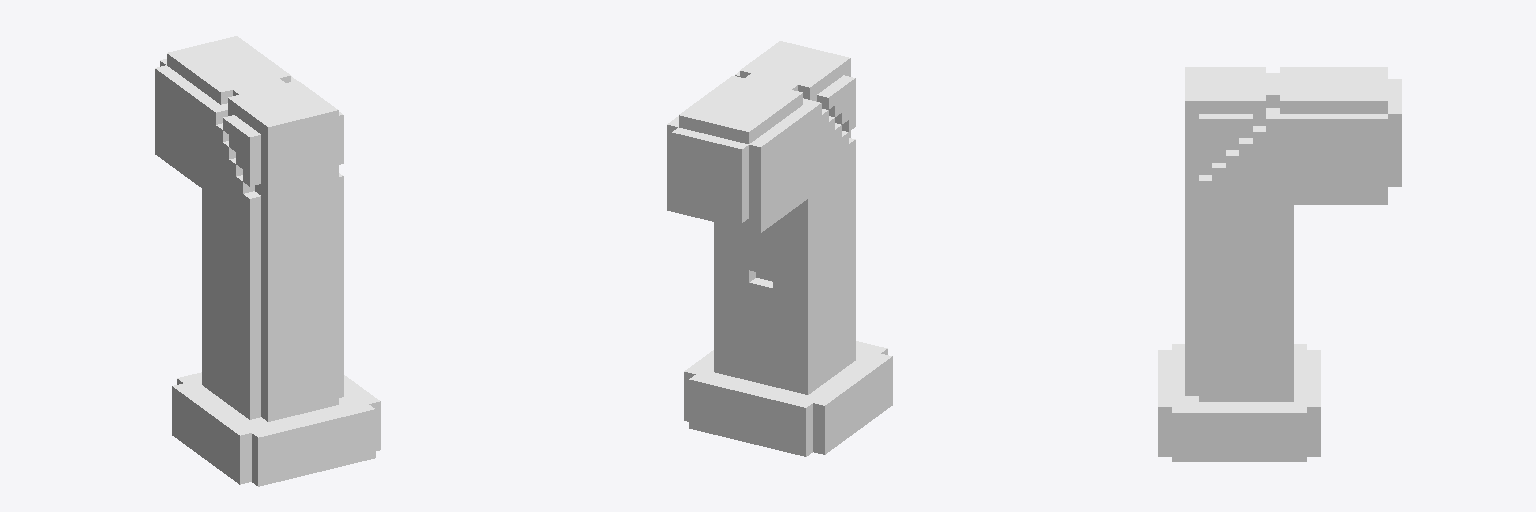
Rendered from heavyhorse.red.obj.
3 views of the same model, side by side, from view 1: azimuth 30°, elevation 25°; view 2: azimuth 150°, elevation 25°; view 3: azimuth 270°, elevation 25° (orthographic).
Visible parts, largest first — view 1: object 1; view 2: object 1; view 3: object 1.
Boxes of the visible parts, box(x1,y1,x2,y2) form: object 1: box(155, 36, 380, 486); object 1: box(667, 41, 892, 456); object 1: box(1158, 67, 1401, 461).
Bounding box in the file's own units: 1.2 × 2.8 × 1.8.